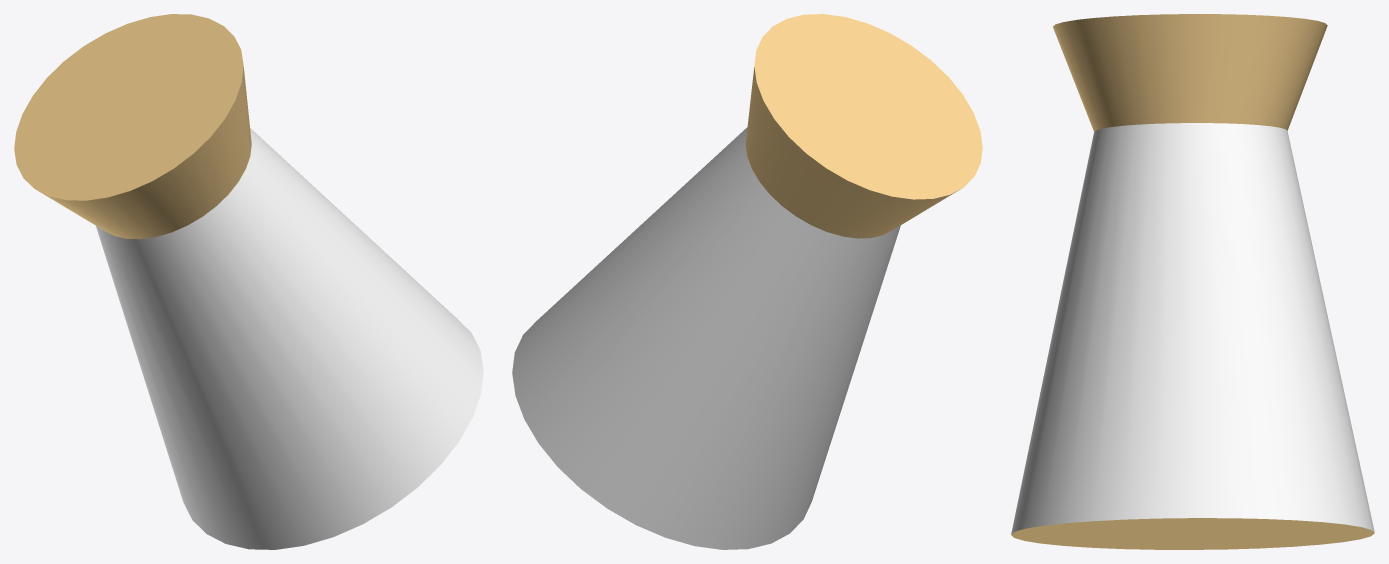
Rendered from Piece.glb.
3 renders of one model, left to right at view 1: azimuth 30°, elevation 25°; view 2: azimuth 150°, elevation 25°; view 3: azimuth 270°, elevation 25°, orthographic. The views are drawn at different scales.
Visible parts, largest first — view 1: Piece; view 2: Piece; view 3: Piece.
Boxes of the visible parts, box(x1,y1,x2,y2) form: Piece: box(14, 14, 483, 549); Piece: box(512, 14, 982, 549); Piece: box(1011, 14, 1374, 549).
Bounding box in the file's own units: 2.34 × 2.65 × 1.6.
